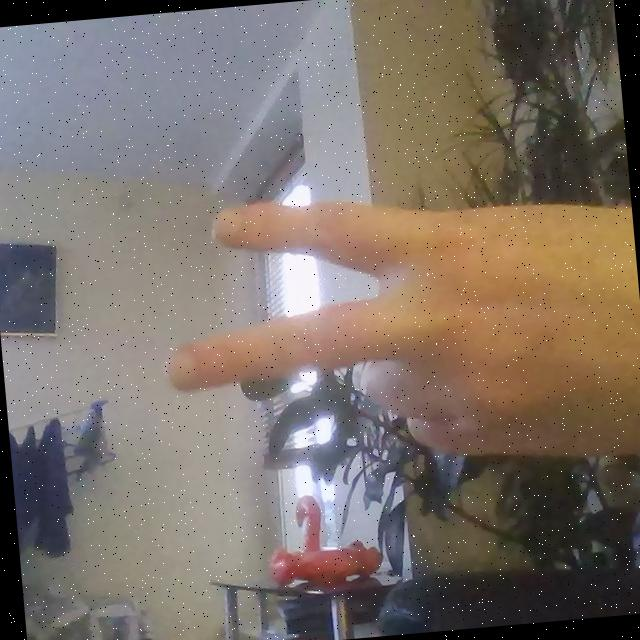scissors: (146, 170, 572, 492)
